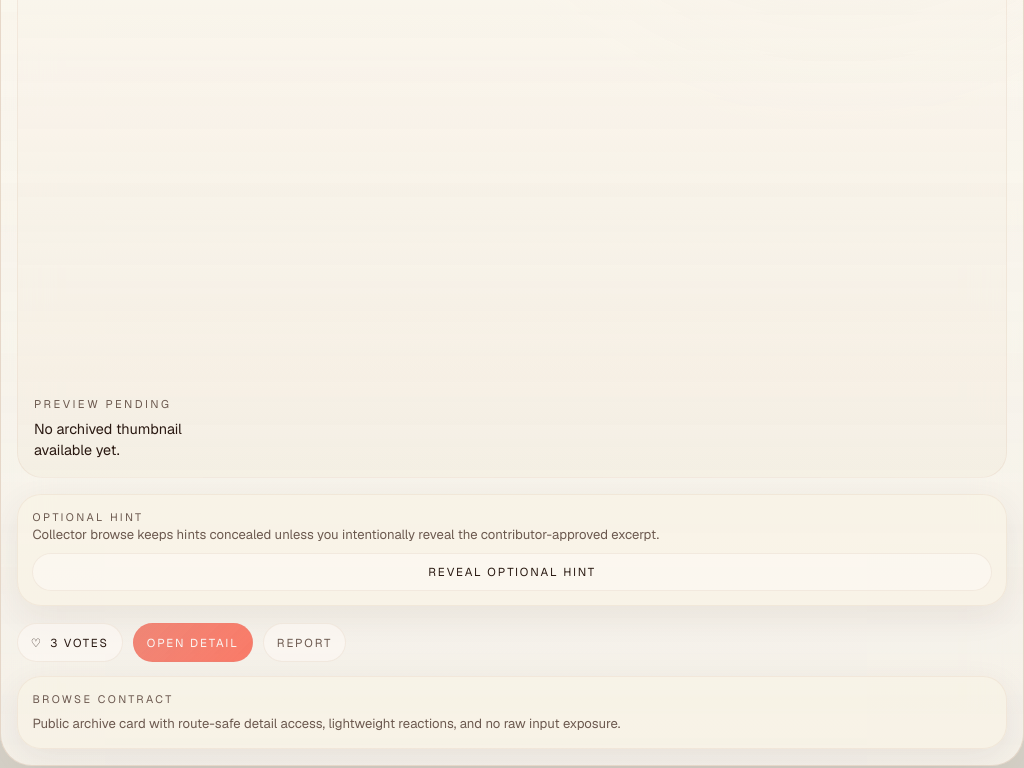
Test: GAL-07: GalleryCard actions remain accessible and stateful › reports artwork and shows the reported state
(page scrolled)
Click the button with aria-label "report this artwork".
click(305, 642)  # box [263, 623, 346, 662]
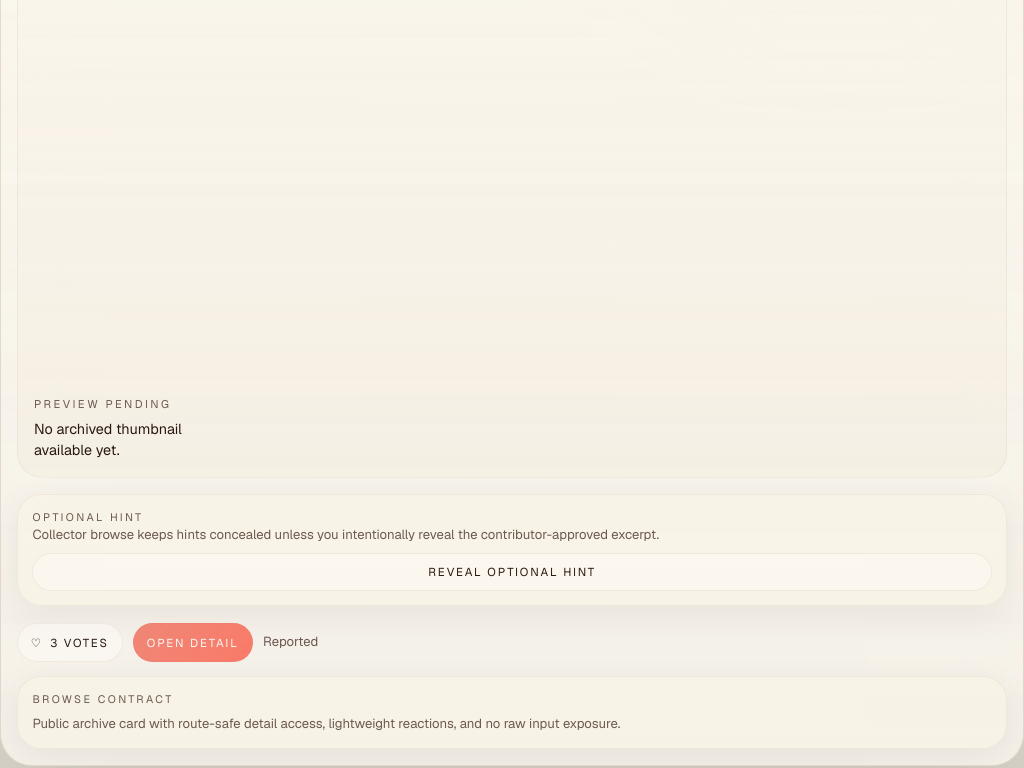
Now the text "Reported" is shown, box [263, 632, 318, 652]
